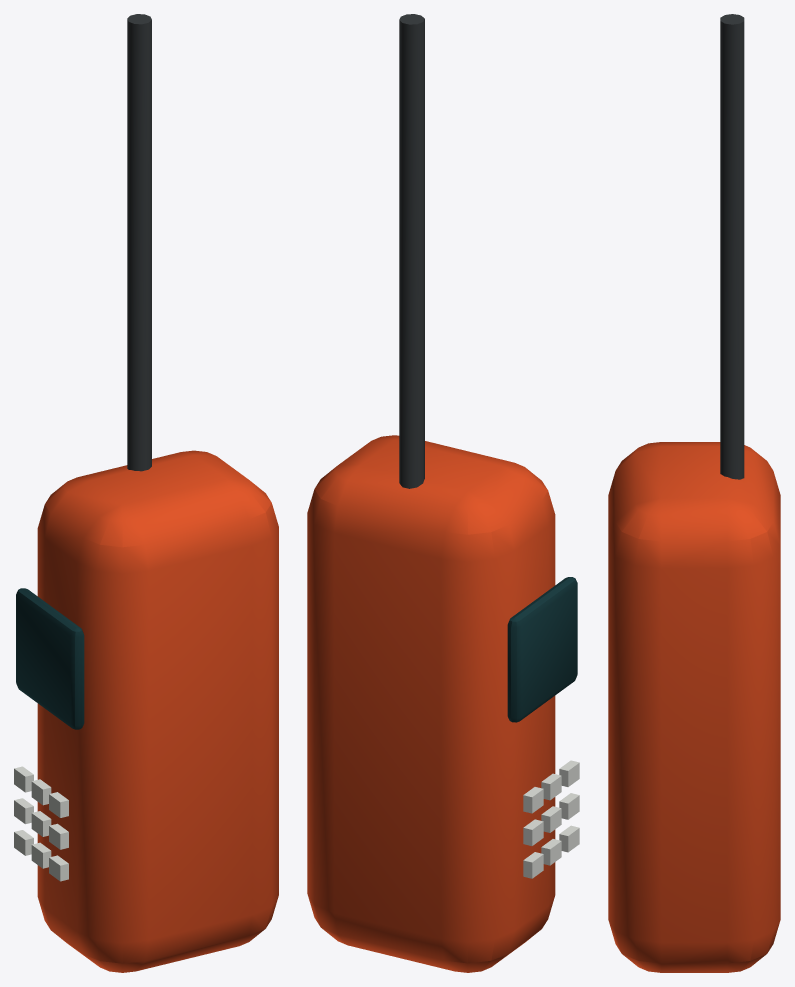
The model's file is cabin_radio_left.glb.
3 views of the same model, side by side, from view 1: azimuth 30°, elevation 25°; view 2: azimuth 150°, elevation 25°; view 3: azimuth 270°, elevation 25° (orthographic). The views are drawn at different scales.
Visible parts, largest first — view 1: cabin_radio_left; view 2: cabin_radio_left; view 3: cabin_radio_left.
Part boxes in pixels (box(x1,y1,x2,y2)): cabin_radio_left: box(14, 14, 278, 972); cabin_radio_left: box(307, 14, 579, 972); cabin_radio_left: box(608, 14, 780, 972).
Size of the model in its own units: 0.101 by 0.4025 by 0.068.
